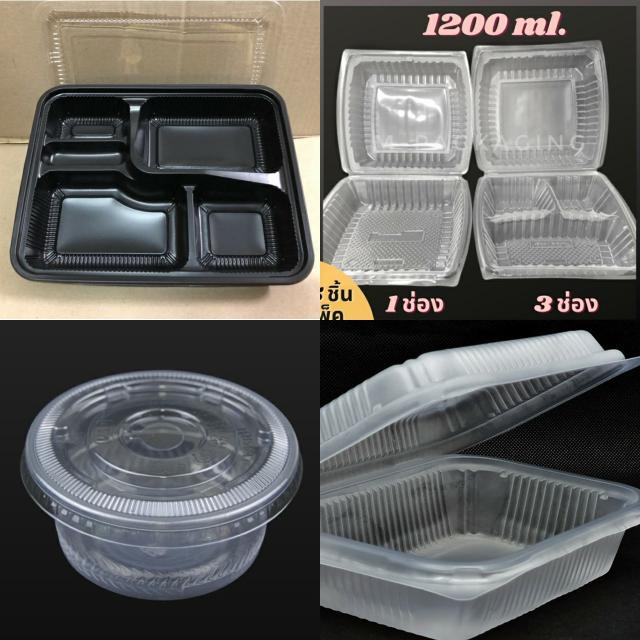Single-Use-Plastic: (321, 331, 640, 640), (21, 372, 302, 600), (10, 85, 314, 284), (471, 40, 636, 279), (324, 49, 472, 286)
